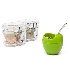guampa: (42, 21, 65, 55)
